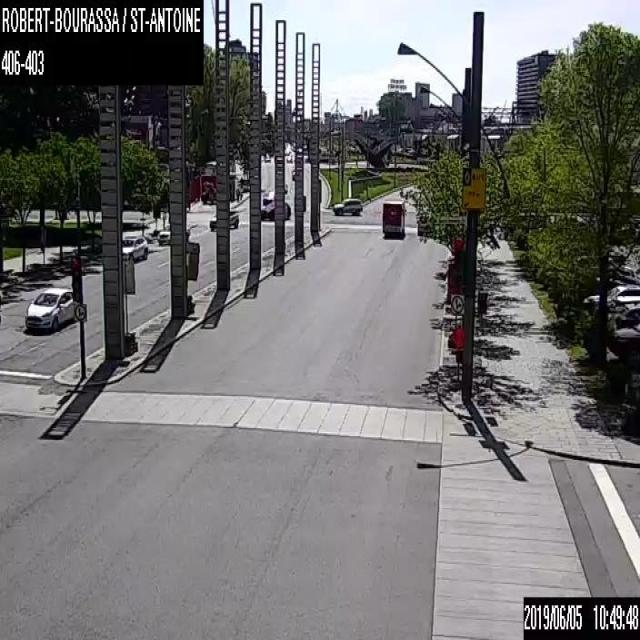construction: (451, 324, 462, 385)
pedestrian: (162, 208, 166, 227), (236, 186, 240, 200), (239, 191, 242, 199)
vehicle: (22, 284, 72, 327), (613, 320, 639, 354), (120, 233, 148, 263), (382, 198, 404, 235), (156, 222, 190, 243), (607, 283, 639, 305), (210, 208, 239, 229), (260, 200, 290, 220), (332, 197, 362, 214), (616, 305, 639, 325), (262, 188, 275, 205), (286, 154, 292, 162), (291, 167, 294, 180), (264, 156, 270, 162), (284, 181, 287, 193)
